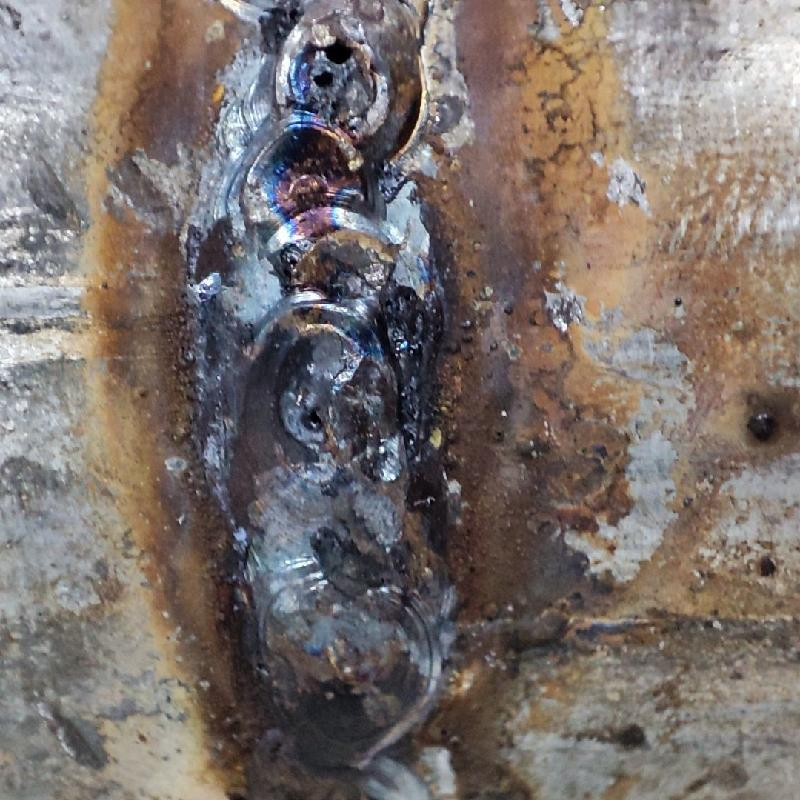Surface_pores: (293, 30, 363, 96)
